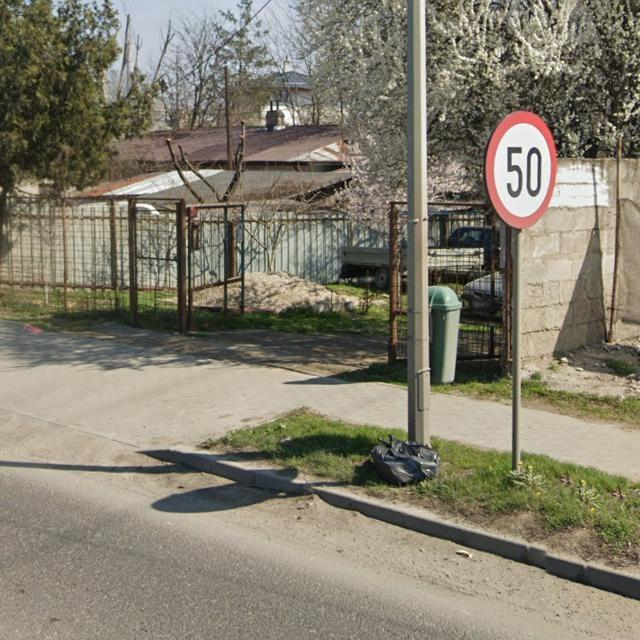forb_speed_over_50: (487, 113, 559, 229)
